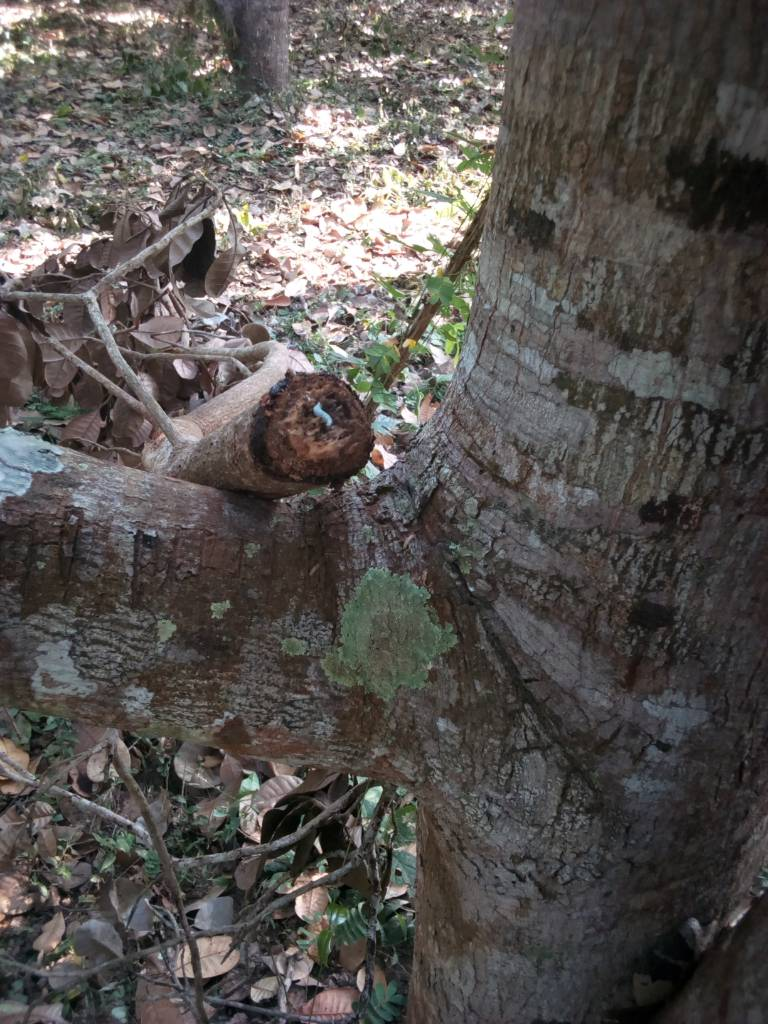Analepse trifasciata: (252, 364, 388, 489)
